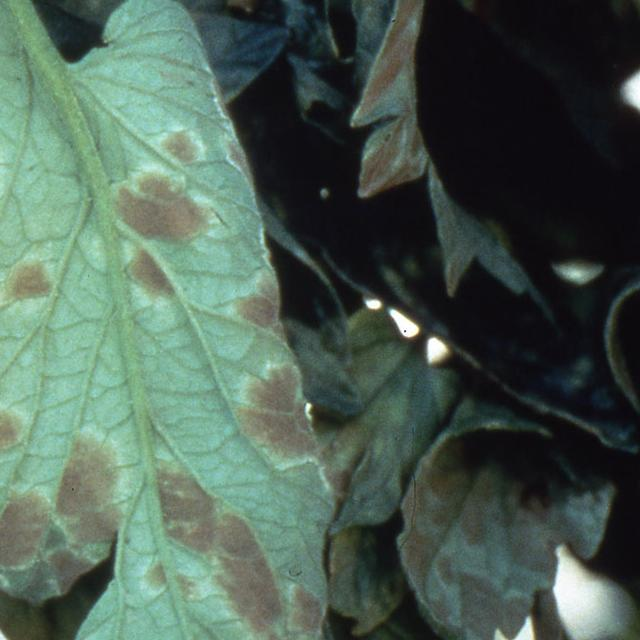Tomato mold leaf: (0, 0, 353, 640)
